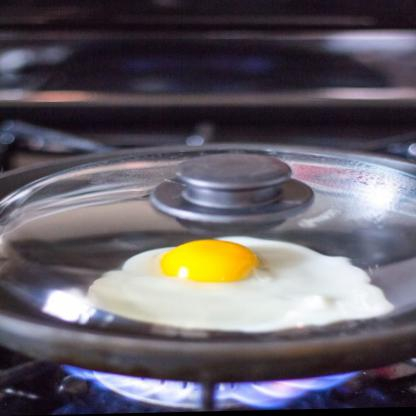egg: (89, 235, 398, 337)
